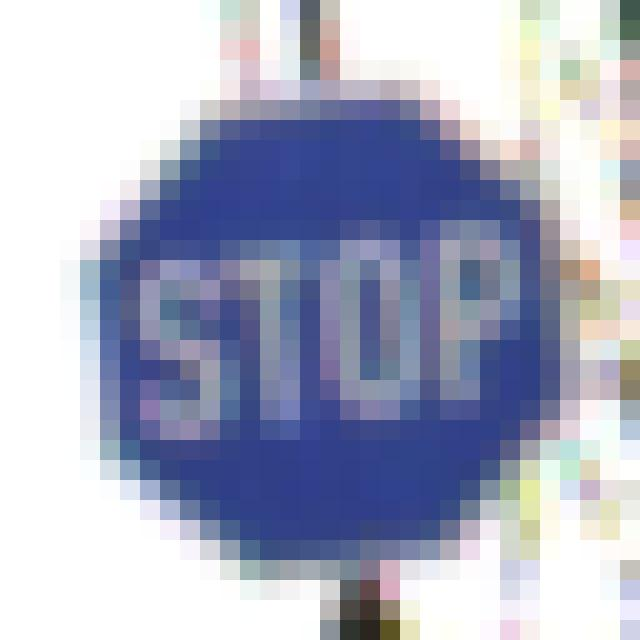STOP: (116, 104, 558, 563)
